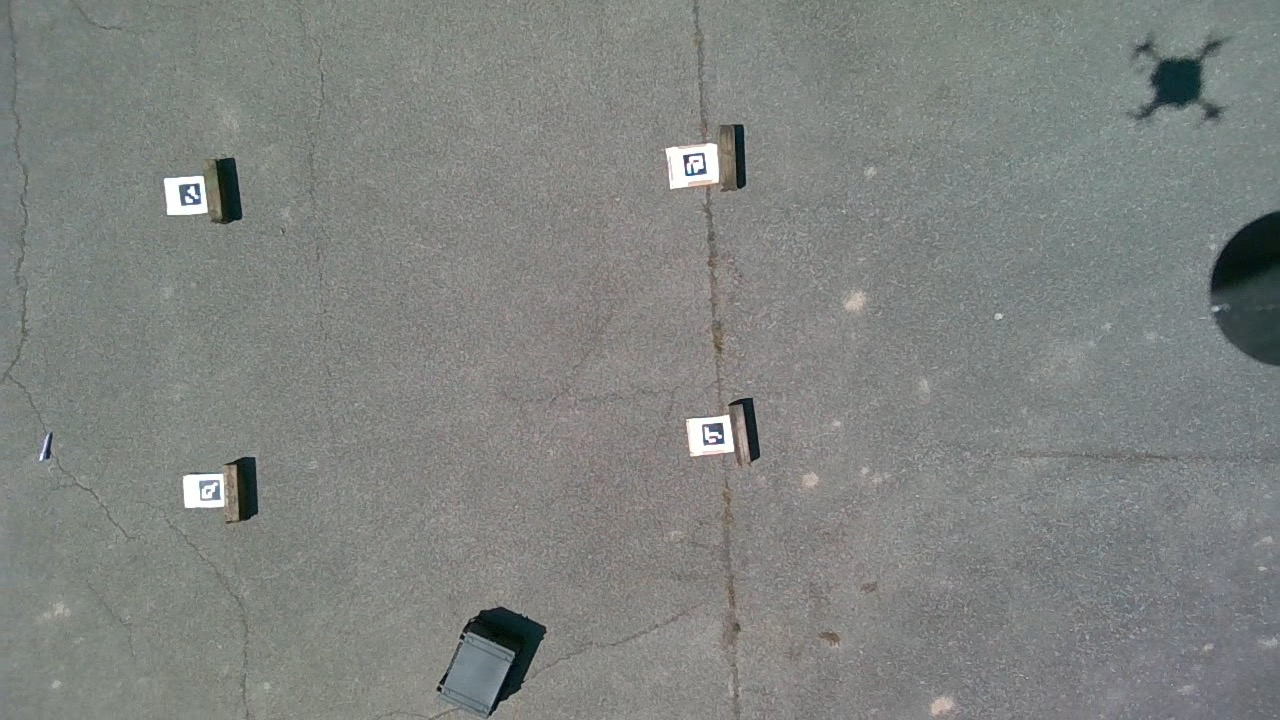probes: (38, 432, 53, 461)
rako: (437, 616, 522, 717)
